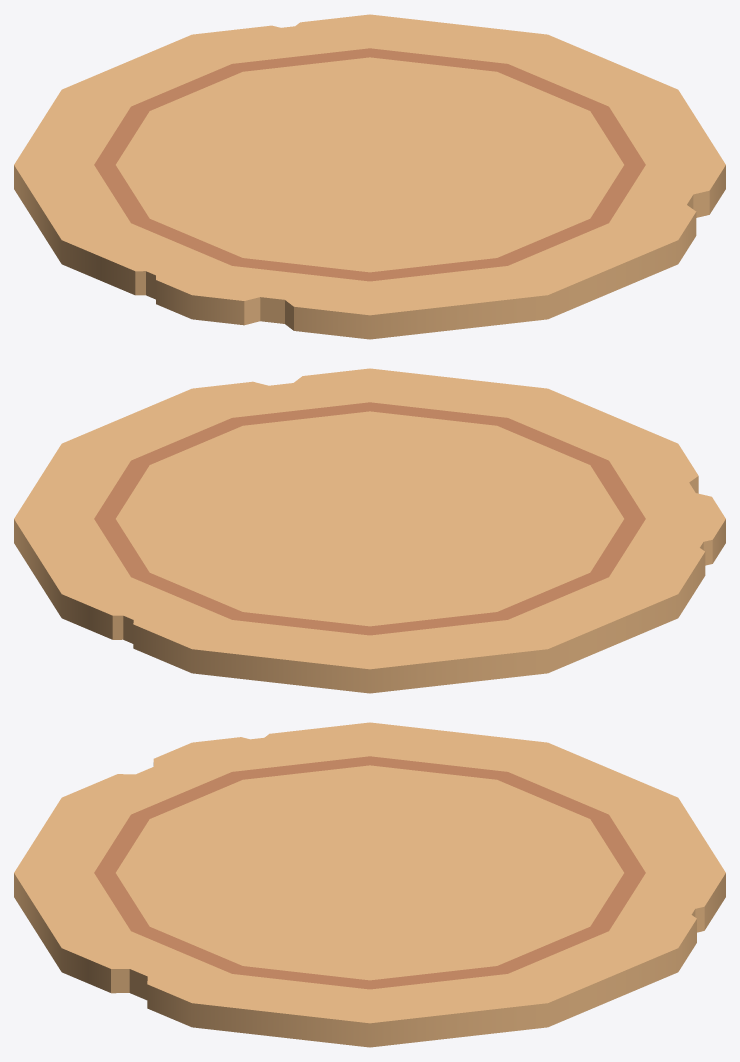
Rendered from cuttingBoardRound.obj.
3 renders of one model, top to bottom at view 1: azimuth 30°, elevation 25°; view 2: azimuth 150°, elevation 25°; view 3: azimuth 270°, elevation 25°, orthographic.
Visible parts, largest first — view 1: cuttingBoardRound; view 2: cuttingBoardRound; view 3: cuttingBoardRound.
Boxes of the visible parts, x1=… form: cuttingBoardRound: x1=14, y1=14, x2=725, y2=339; cuttingBoardRound: x1=14, y1=368, x2=725, y2=693; cuttingBoardRound: x1=14, y1=722, x2=725, y2=1047.
Bounding box in the file's own units: 0.8 × 0.03 × 0.8.
